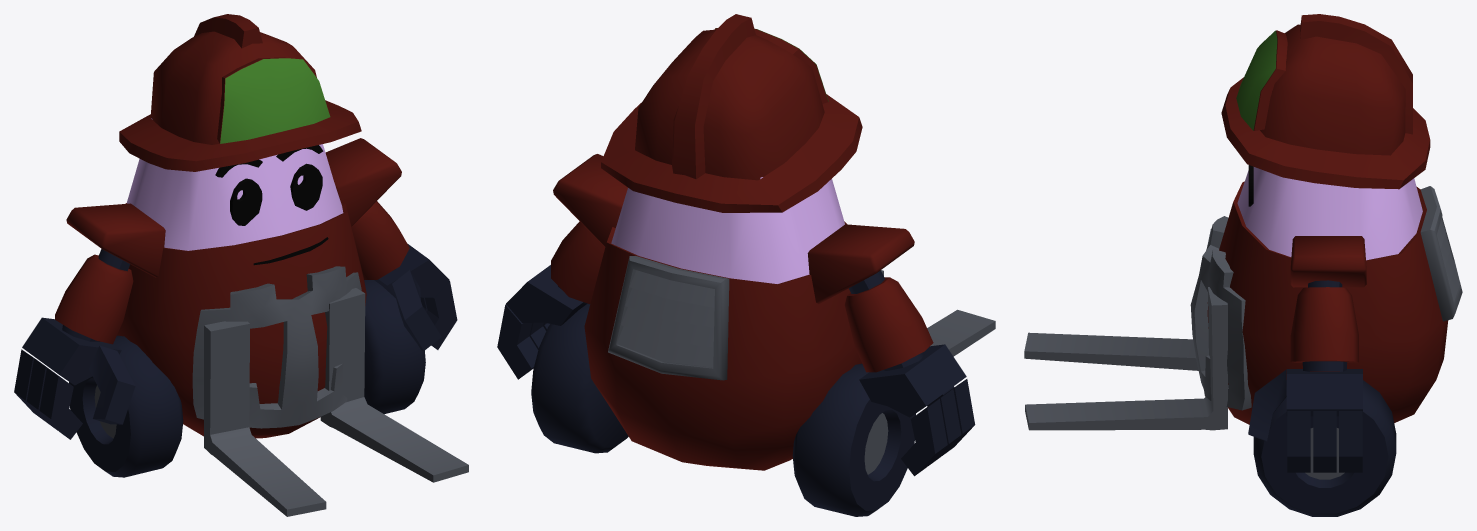
File: Perosnaje.fbx
3 views of the same model, side by side, from view 1: azimuth 30°, elevation 25°; view 2: azimuth 150°, elevation 25°; view 3: azimuth 270°, elevation 25° (orthographic). The views are drawn at different scales.
Parts seen in each view (by area): view 1: cuerpo, Circle001, brazo_01, brazo_02, hombro_001, Hombro_02; view 2: cuerpo, Circle001, brazo_01, brazo_02, hombro_001, Hombro_02; view 3: cuerpo, brazo_02, Circle001, Hombro_02.
Part boxes in pixels (<box>): cuerpo: <box>117,14,468,516</box>; Circle001: <box>69,280,425,477</box>; brazo_01: <box>14,249,135,439</box>; brazo_02: <box>351,201,457,350</box>; hombro_001: <box>66,203,165,277</box>; Hombro_02: <box>325,138,401,226</box>; cuerpo: <box>584,14,995,470</box>; Circle001: <box>531,303,915,516</box>; brazo_01: <box>845,270,975,476</box>; brazo_02: <box>497,221,605,379</box>; hombro_001: <box>807,224,914,304</box>; Hombro_02: <box>553,154,627,246</box>; cuerpo: <box>1024,14,1462,430</box>; brazo_02: <box>1248,280,1362,472</box>; Circle001: <box>1253,380,1396,516</box>; Hombro_02: <box>1290,236,1366,287</box>.
Size of the model in its own units: 134 by 132 by 123.
